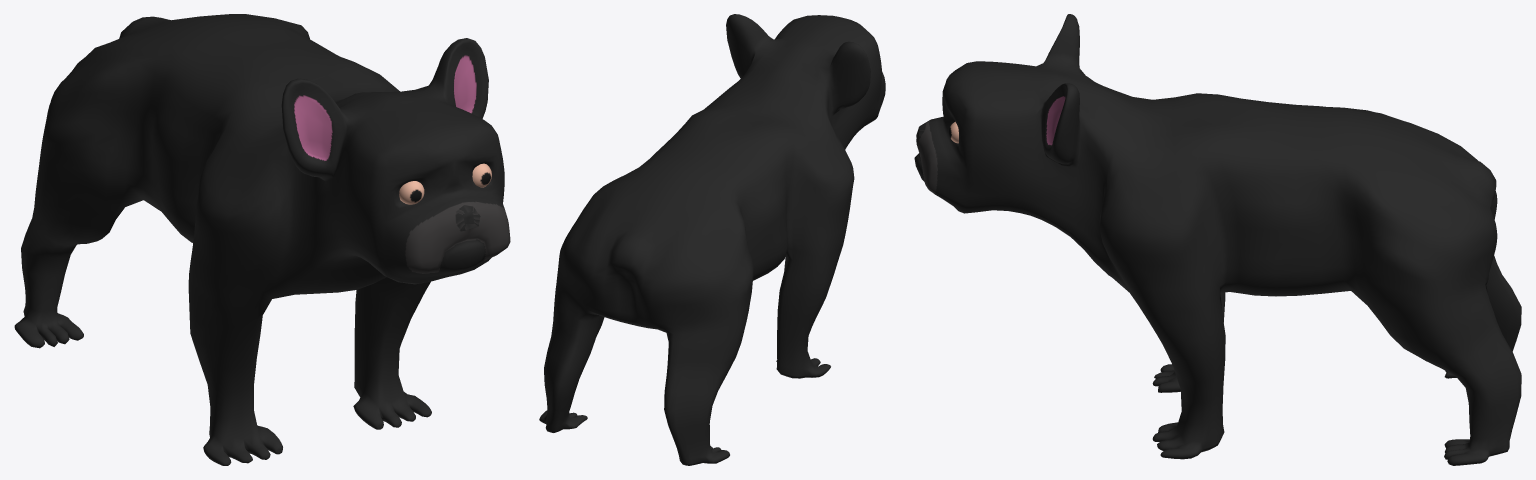
File: deformer_test.fbx
The picture shows the model from 3 angles, left to right: view 1: azimuth 30°, elevation 25°; view 2: azimuth 150°, elevation 25°; view 3: azimuth 270°, elevation 25°; orthographic projection. The views are drawn at different scales.
Parts seen in each view (by area): view 1: combine_dog_target1; view 2: combine_dog_target1; view 3: combine_dog_target1.
Boxes of the visible parts, x1=… form: combine_dog_target1: x1=14, y1=14, x2=510, y2=465; combine_dog_target1: x1=539, y1=14, x2=885, y2=465; combine_dog_target1: x1=914, y1=14, x2=1521, y2=465.
Size of the model in its own units: 17.68 by 27.15 by 40.9.
